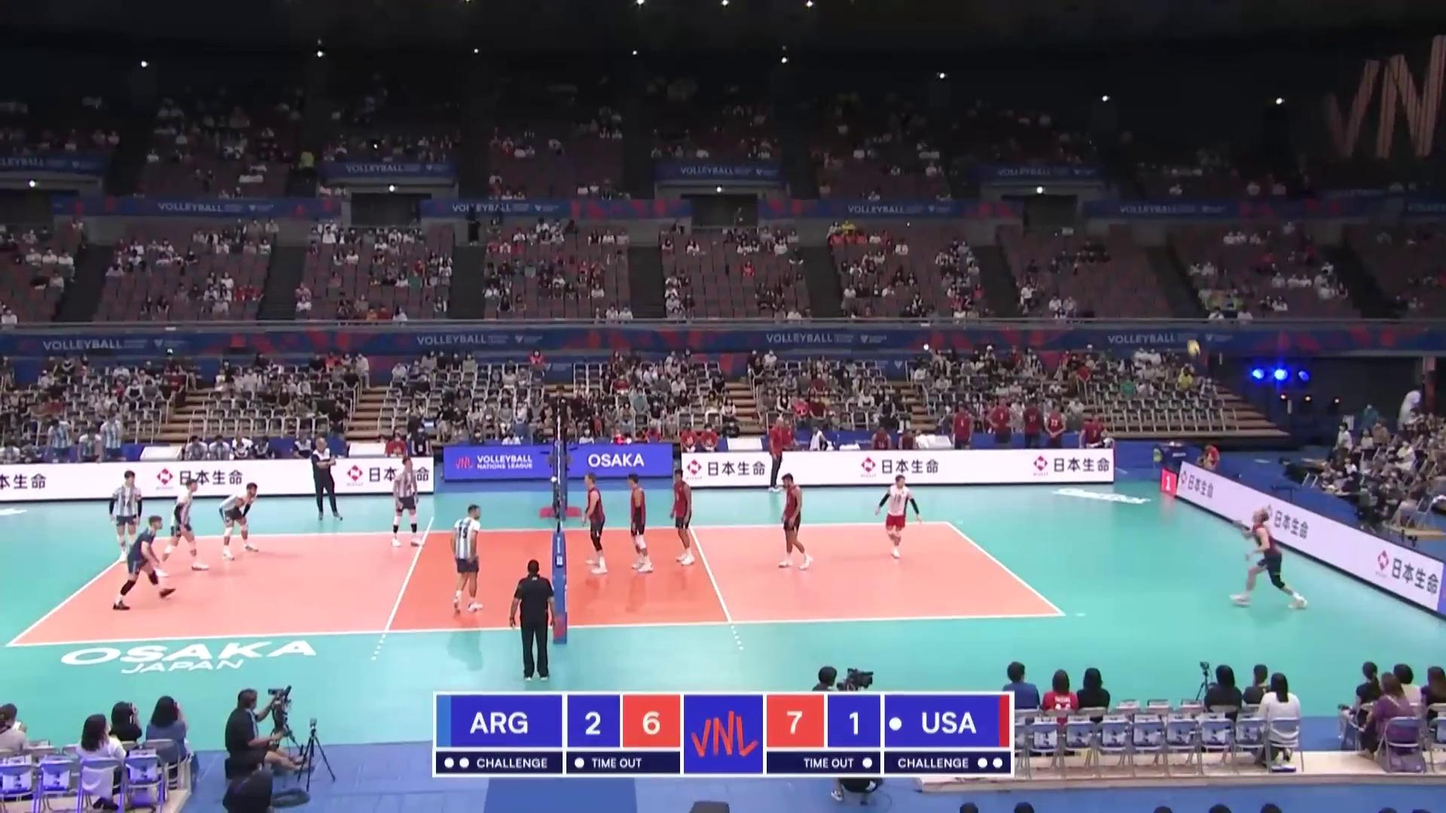player: (1233, 509, 1307, 607), (116, 516, 174, 612), (158, 478, 206, 575), (450, 504, 484, 617), (778, 474, 813, 570), (877, 475, 916, 559), (217, 483, 258, 560), (667, 469, 697, 566), (580, 473, 609, 573), (391, 457, 422, 549), (111, 472, 142, 562), (626, 472, 652, 571)
refree: (509, 561, 556, 682), (549, 385, 572, 455)
